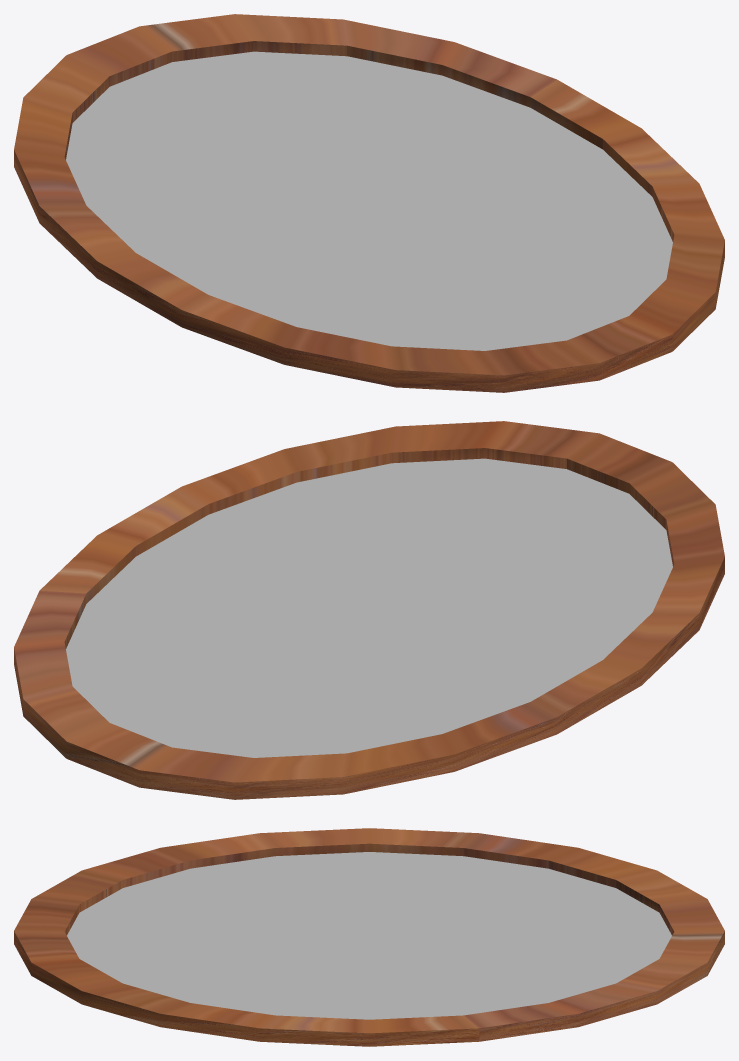
File: MirrorFBX.fbx
3 views of the same model, one above another, from view 1: azimuth 30°, elevation 25°; view 2: azimuth 150°, elevation 25°; view 3: azimuth 270°, elevation 25° (orthographic). The views are drawn at different scales.
Visible parts, largest first — view 1: pCylinder3; view 2: pCylinder3; view 3: pCylinder3.
Part boxes in pixels (x1,y1,x2,y2): pCylinder3: [14, 14, 724, 392]; pCylinder3: [14, 421, 724, 799]; pCylinder3: [14, 828, 724, 1046].
Size of the model in its own units: 1.41 by 0.043 by 2.06.
6 materials, 4 textured.
